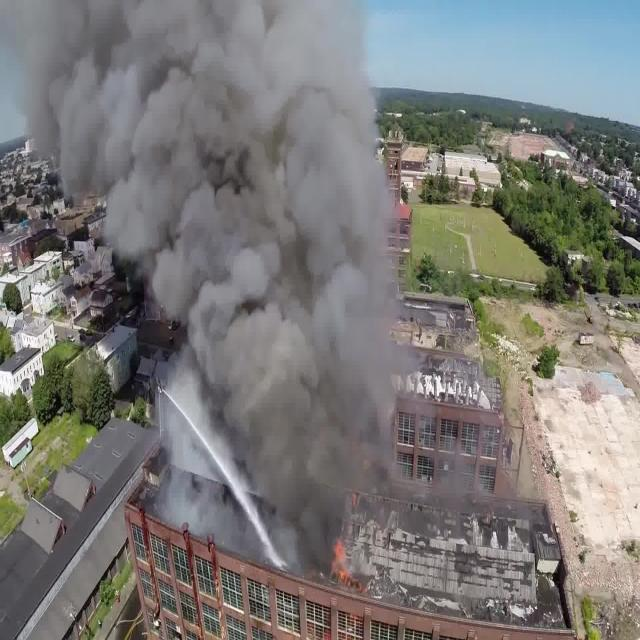Fire: (312, 531, 372, 640)
Smoke: (4, 0, 408, 639)
